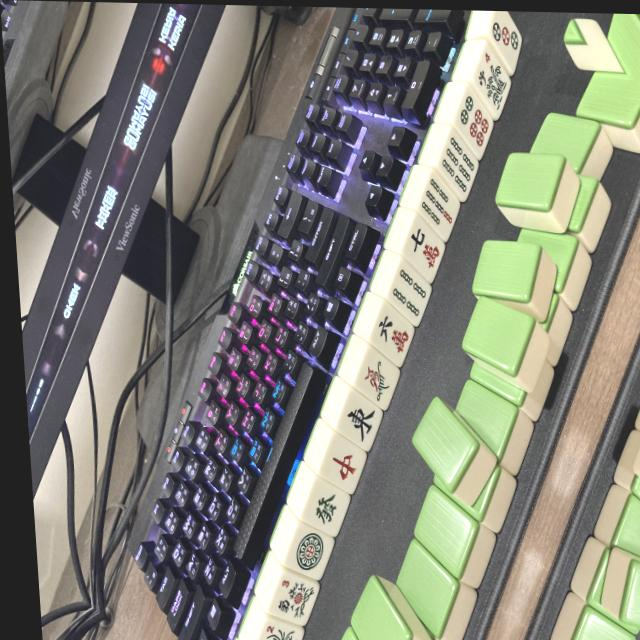east: (331, 390, 388, 455)
f2: (252, 618, 304, 640)
f3: (266, 570, 322, 625)
f4: (468, 46, 518, 120)
fa: (296, 477, 354, 538)
m6: (361, 301, 420, 368)
m7: (399, 219, 454, 283)
s1: (348, 345, 405, 411)
s4: (382, 261, 439, 327)
s6: (435, 134, 488, 199)
s7: (414, 175, 467, 237)
t1: (281, 521, 339, 583)
t3: (483, 11, 527, 75)
t6: (448, 87, 501, 158)
zhong: (315, 433, 370, 496)
